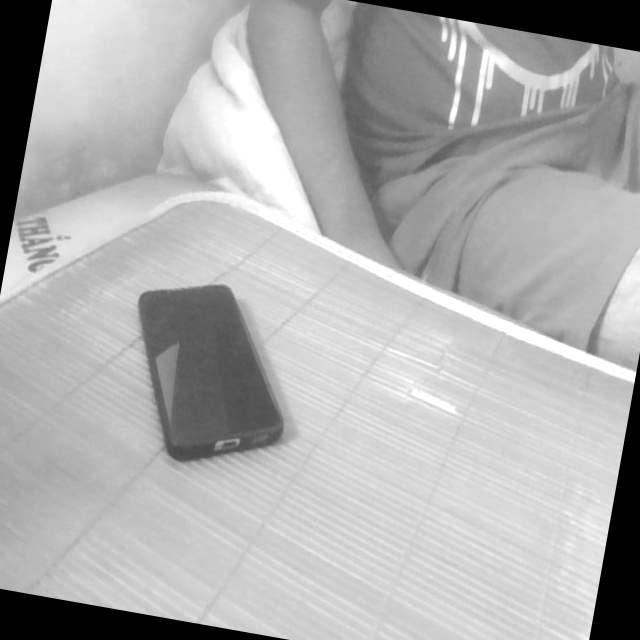phone: (89, 248, 328, 506)
